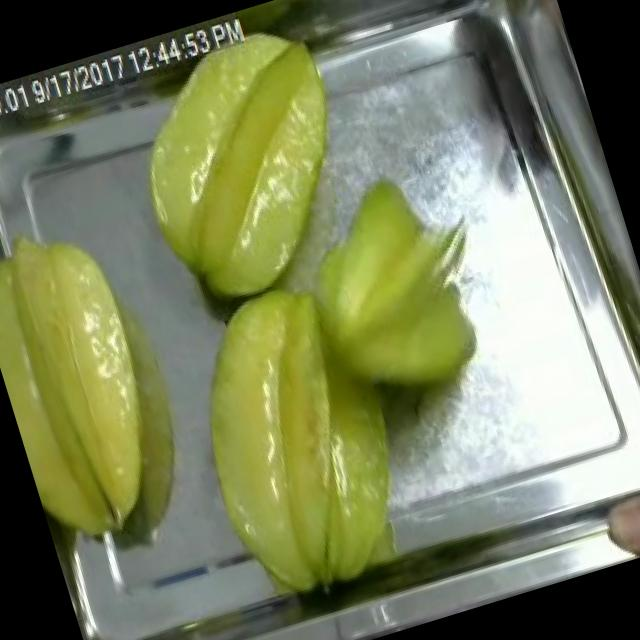fruit: (150, 252, 442, 630), (93, 4, 390, 328), (0, 199, 210, 563), (270, 147, 506, 425), (590, 465, 640, 565)
